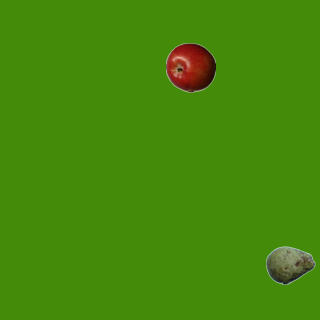Apple Braeburn: (165, 42, 215, 92)
Pear Stone: (265, 240, 315, 290)
